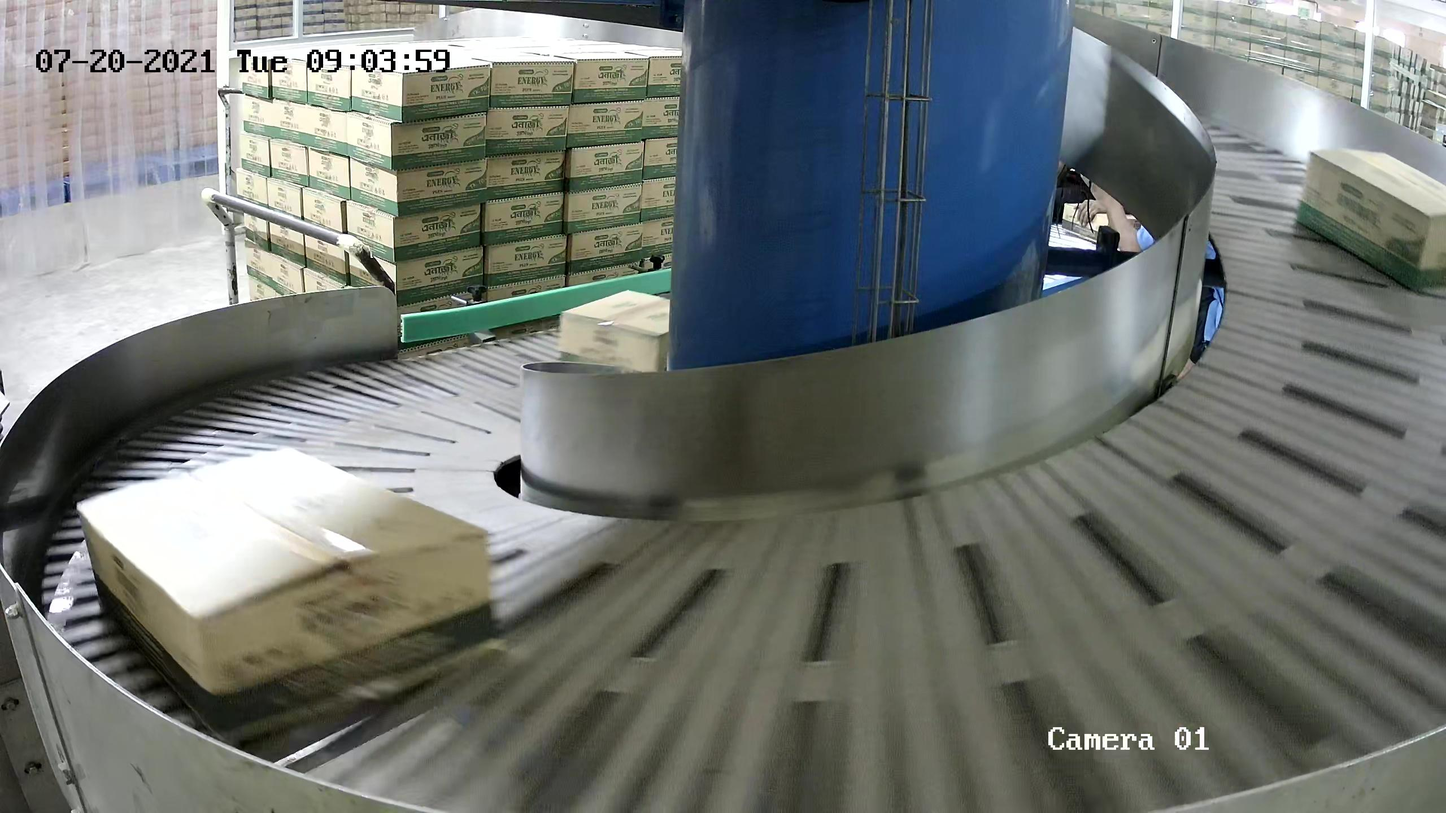Box: (74, 444, 496, 748), (1294, 146, 1446, 291), (558, 289, 670, 379)
